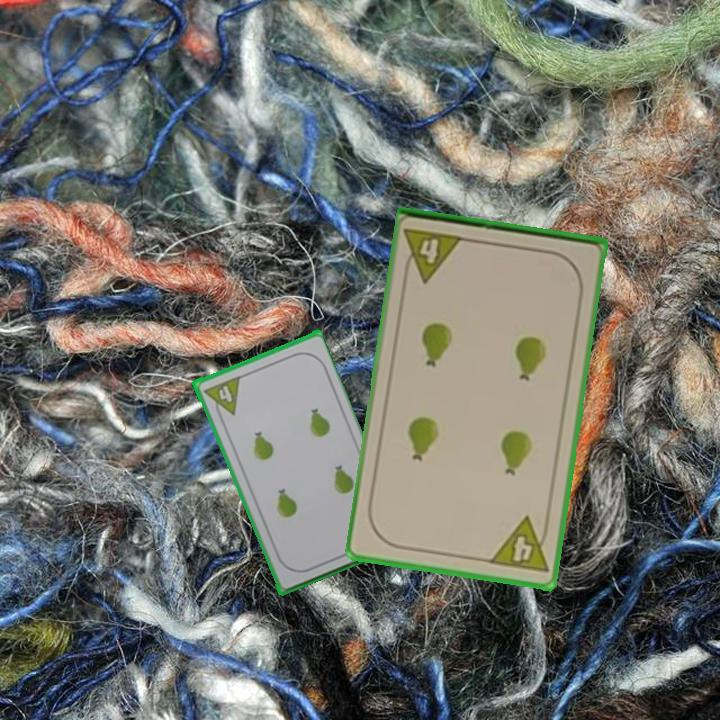4p: (486, 513, 553, 576), (400, 224, 468, 285), (199, 373, 242, 422)
